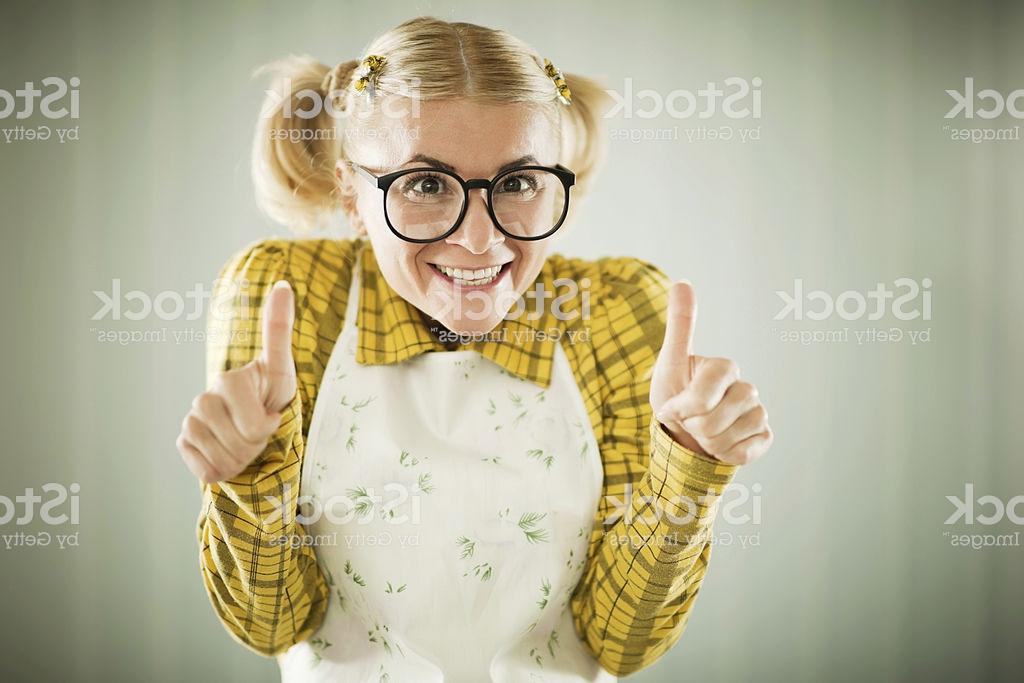thumbsup: (174, 278, 298, 487), (648, 279, 777, 469)
